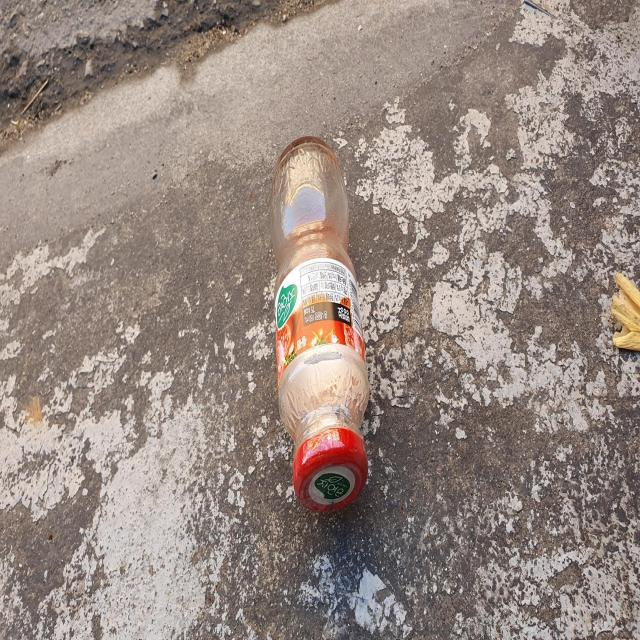glass: (271, 136, 370, 513)
